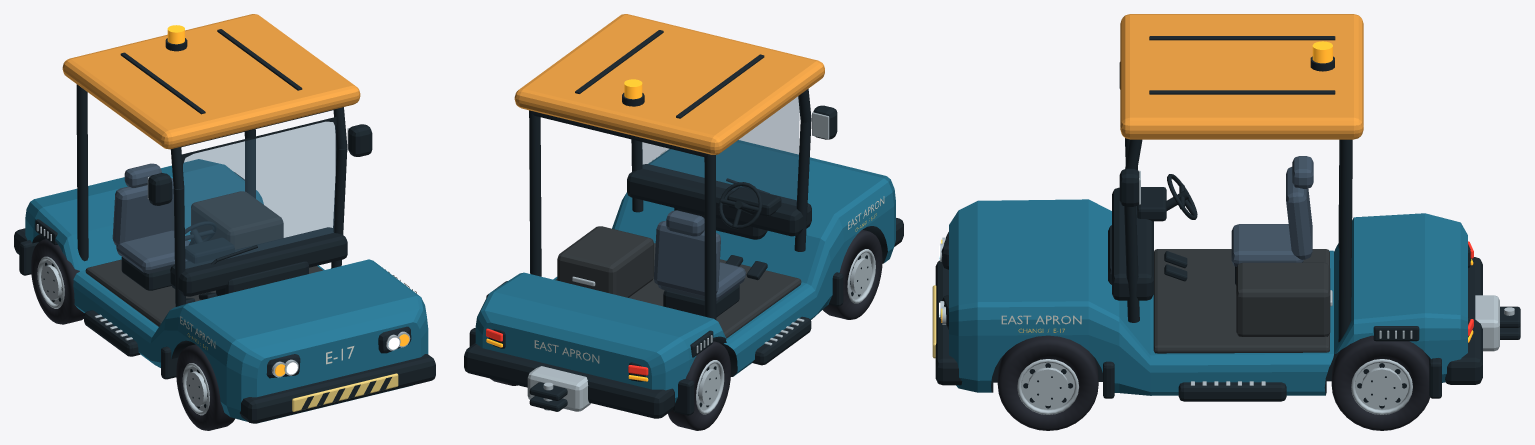
3 views of the same model, side by side, from view 1: azimuth 30°, elevation 25°; view 2: azimuth 150°, elevation 25°; view 3: azimuth 270°, elevation 25° (orthographic). The views are drawn at different scales.
Visible parts, largest first — view 1: East Apron Electric Baggage Tug; view 2: East Apron Electric Baggage Tug; view 3: East Apron Electric Baggage Tug.
Boxes of the visible parts, box(x1,y1,x2,y2) form: East Apron Electric Baggage Tug: box(14, 14, 435, 430); East Apron Electric Baggage Tug: box(464, 14, 903, 430); East Apron Electric Baggage Tug: box(932, 14, 1520, 430).
Bounding box in the file's own units: 1.66 × 2.08 × 3.35.
